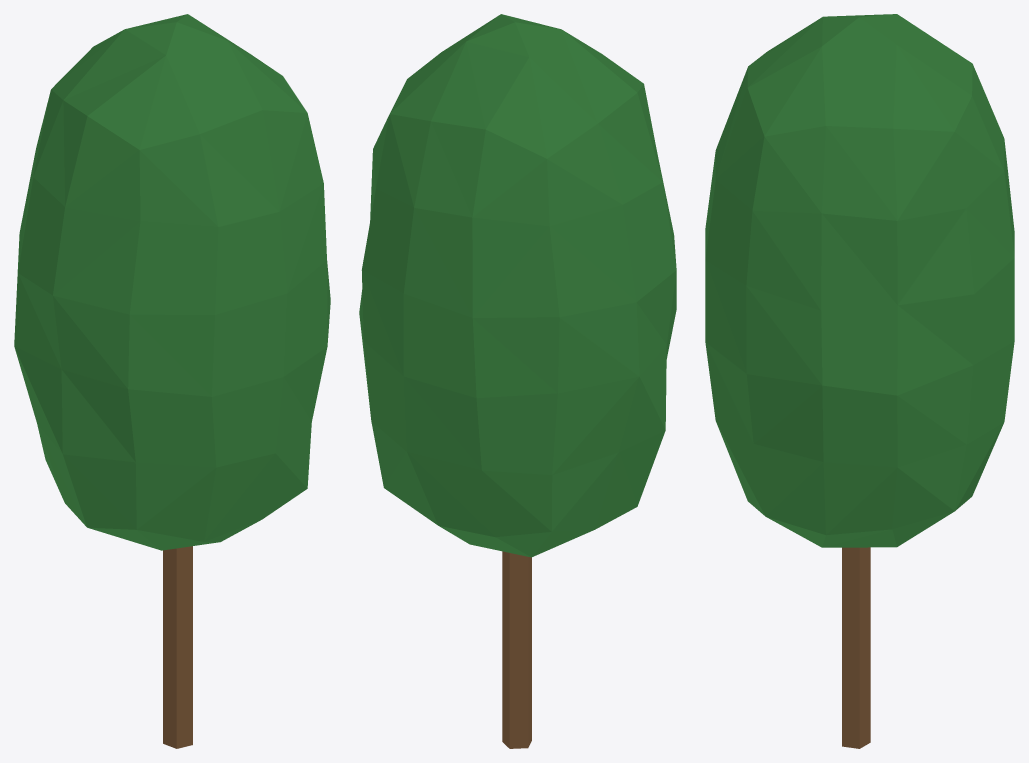
File: tree-elipse.glb
3 renders of one model, left to right at view 1: azimuth 30°, elevation 25°; view 2: azimuth 150°, elevation 25°; view 3: azimuth 270°, elevation 25°, orthographic.
Parts seen in each view (by area): view 1: tree-elipse; view 2: tree-elipse; view 3: tree-elipse.
Boxes of the visible parts, x1,y1,x2,y2 form: tree-elipse: (14, 14, 330, 748); tree-elipse: (359, 14, 676, 748); tree-elipse: (705, 14, 1014, 748).
Bounding box in the file's own units: 2.85 × 7 × 2.71.
1 material, 1 textured.
